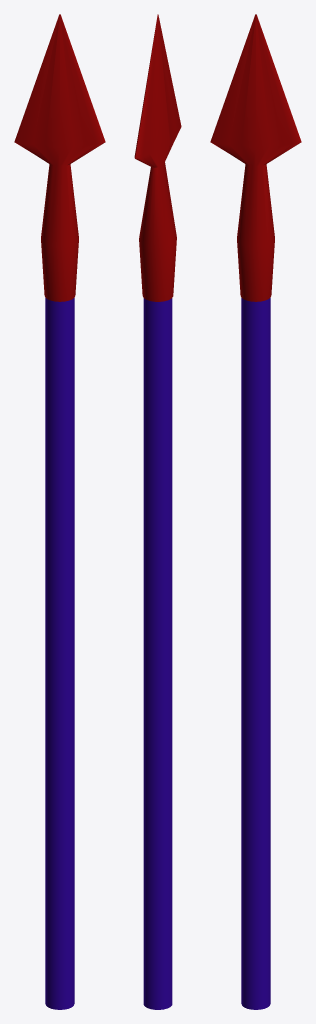
Rendered from Spear.fbx.
3 views of the same model, side by side, from view 1: azimuth 90°, elevation 25°; view 2: azimuth 150°, elevation 25°; view 3: azimuth 270°, elevation 25° (orthographic).
Parts seen in each view (by area): view 1: Spear; view 2: Spear; view 3: Spear.
Part boxes in pixels (bbox=[...]): Spear: bbox=[14, 14, 105, 1009]; Spear: bbox=[134, 14, 181, 1009]; Spear: bbox=[210, 14, 301, 1009].
Size of the model in its own units: 0.1361 by 3.89 by 0.3253.
